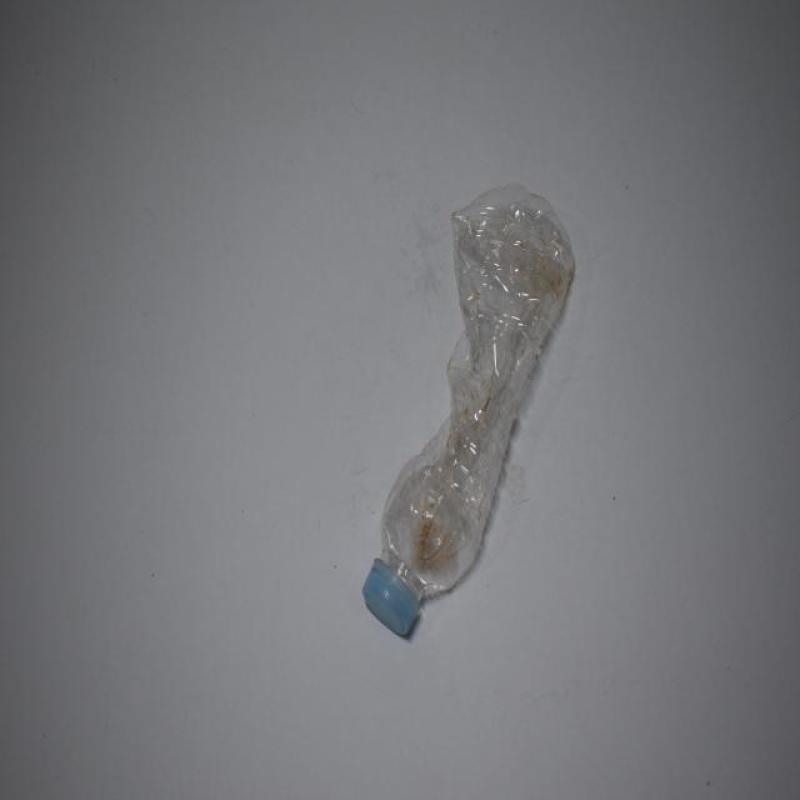botella: (362, 181, 577, 640)
